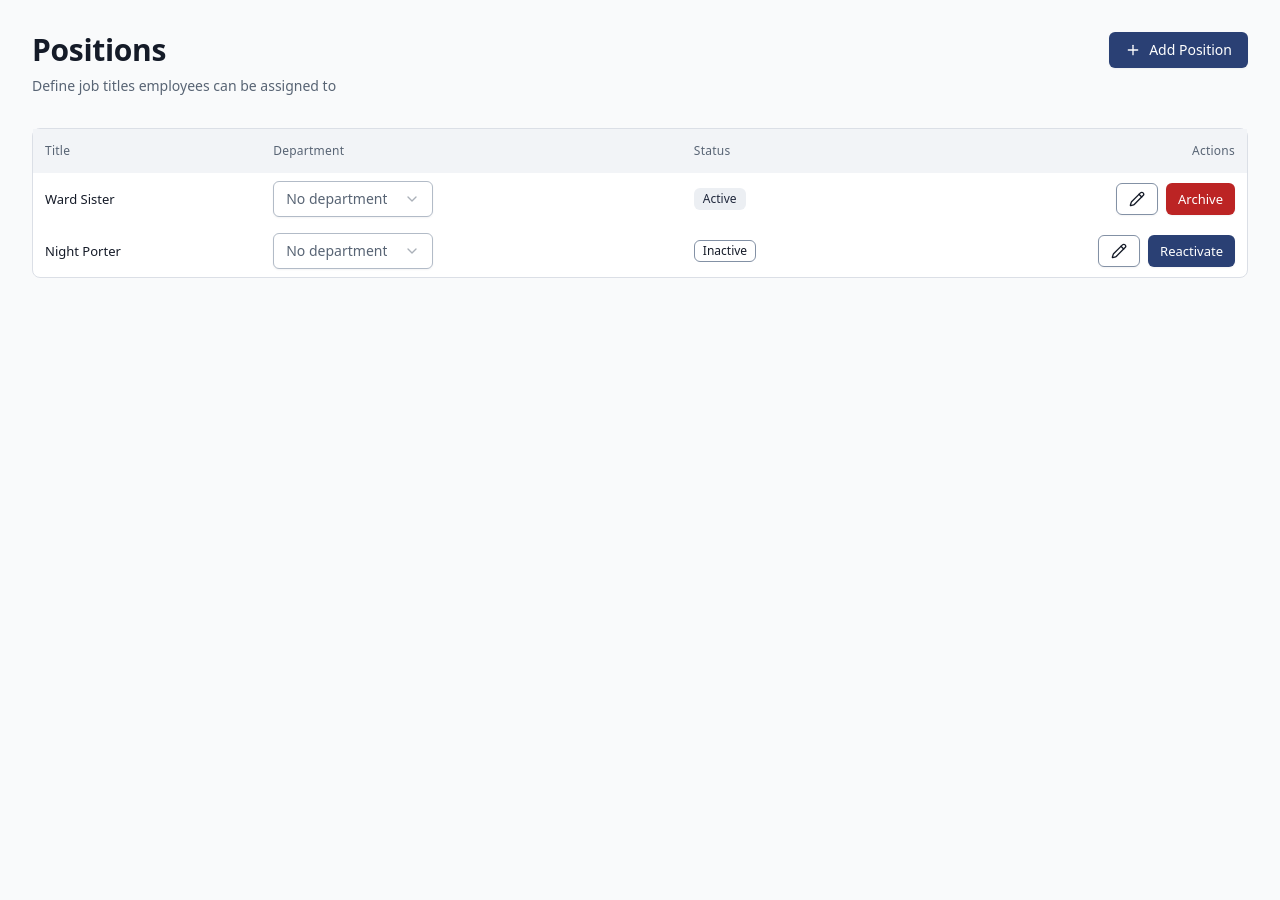
Test: Positions page — archive / reactivate confirmation › opens a confirmation instead of archiving, and Cancel runs nothing
What coordinates should you click on to do the following:
click the button with test id "button-toggle-position-status-1"
I would click on:
 (1200, 199)
Its box is 1166,183 -> 1235,215.
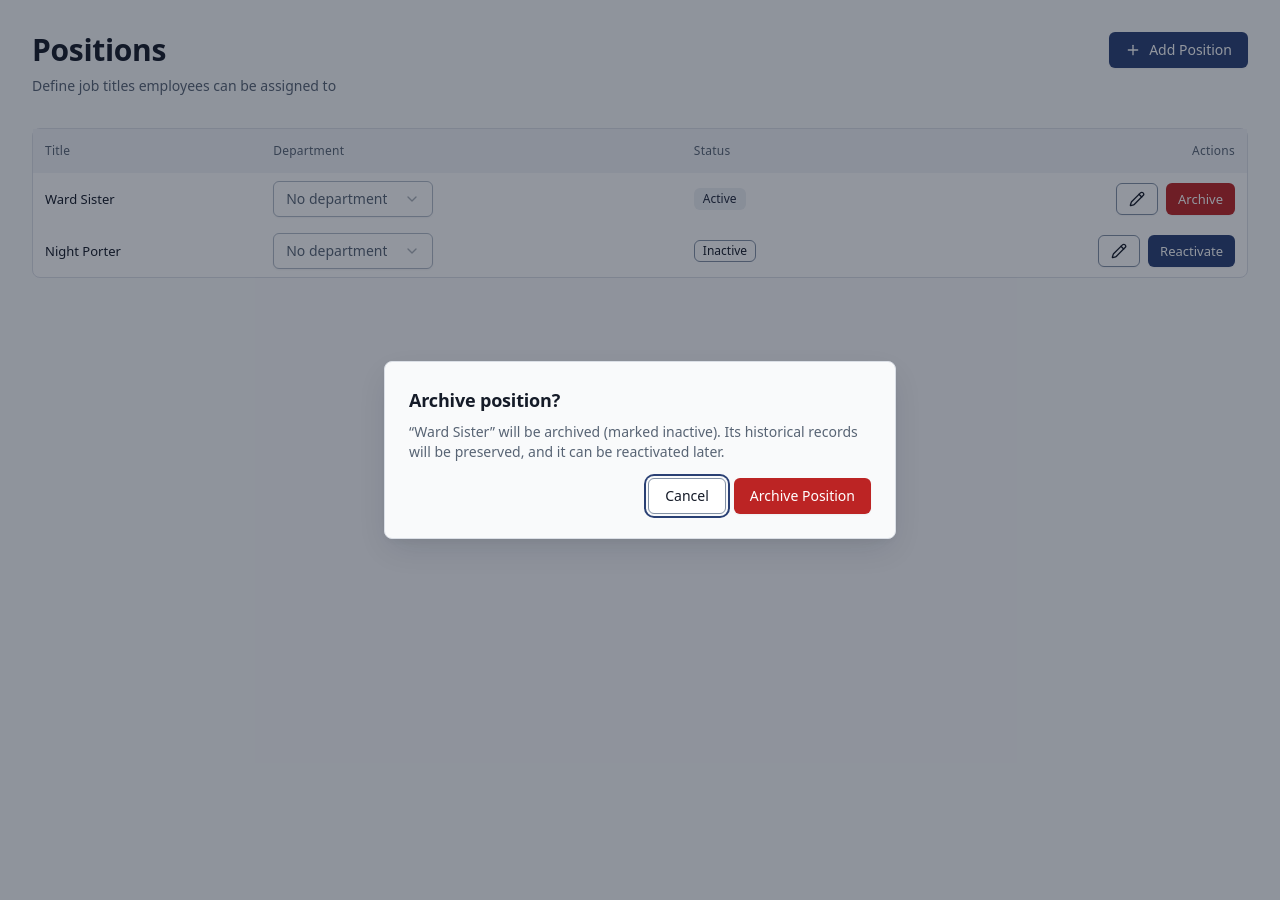
Expected: the dialog with test id "dialog-position-status" shows "Archive position?", 409,388 -> 560,412
Expected: the dialog with test id "dialog-position-status" shows "“Ward Sister” will be archived (marked inactive)", 409,422 -> 858,461
What coordinates should you click on to do the following:
click the button "Cancel"
I would click on:
 (687, 496)
Its box is 648,478 -> 726,514.
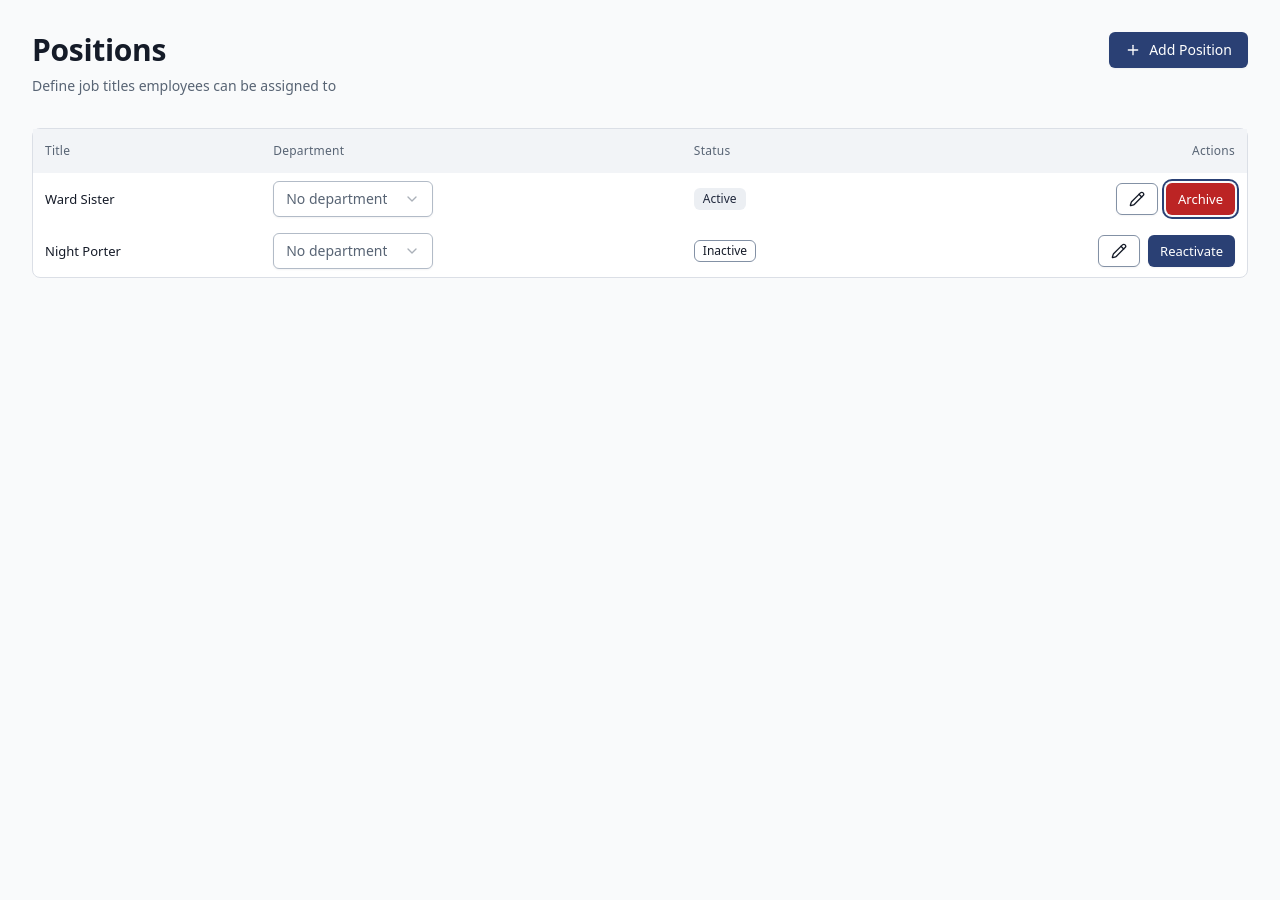
Expected: the dialog with test id "dialog-position-status" is gone
